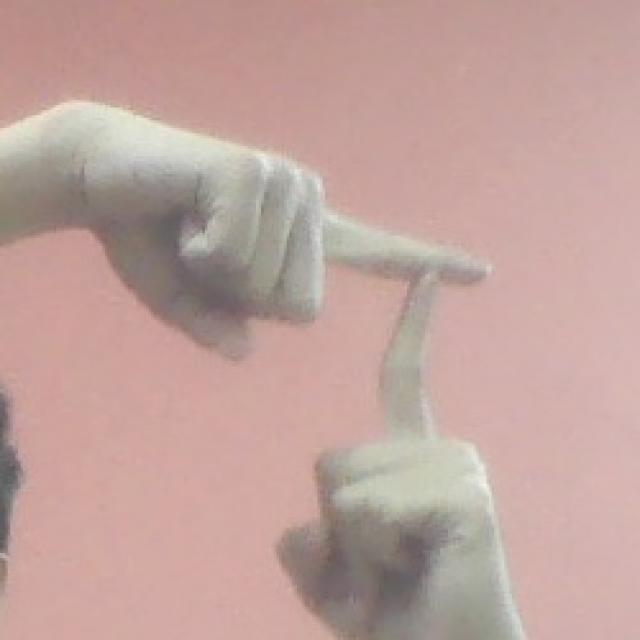Alphabet-T: (61, 79, 522, 640)
